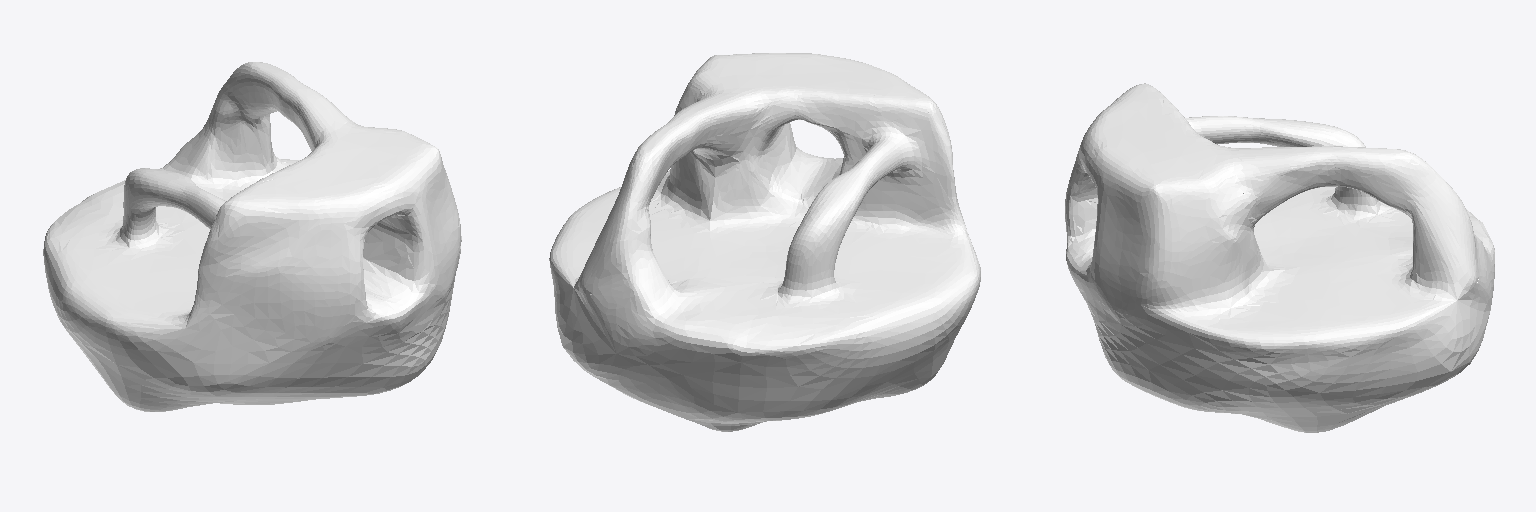
File: island4.obj
3 views of the same model, side by side, from view 1: azimuth 30°, elevation 25°; view 2: azimuth 150°, elevation 25°; view 3: azimuth 270°, elevation 25° (orthographic).
Visible parts, largest first — view 1: F3:GeoDome1_F3:GeoDome1_auv; view 2: F3:GeoDome1_F3:GeoDome1_auv; view 3: F3:GeoDome1_F3:GeoDome1_auv.
Part boxes in pixels (left/top/right/bottom): F3:GeoDome1_F3:GeoDome1_auv: left=43, top=62, right=461, bottom=411; F3:GeoDome1_F3:GeoDome1_auv: left=549, top=53, right=980, bottom=431; F3:GeoDome1_F3:GeoDome1_auv: left=1065, top=83, right=1494, bottom=432.
Size of the model in its own units: 4.03 by 2.83 by 4.01.